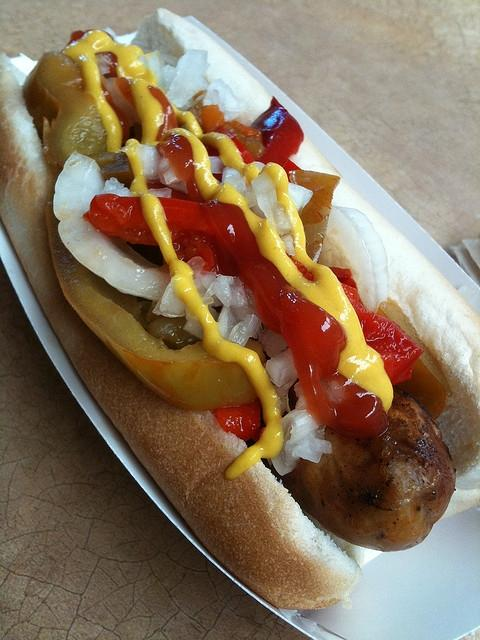onion: (53, 152, 171, 302), (318, 205, 390, 314), (270, 408, 332, 476), (166, 50, 210, 108), (203, 78, 247, 122), (251, 172, 277, 228), (265, 348, 298, 388), (228, 314, 261, 347), (160, 280, 186, 316), (138, 143, 161, 182), (220, 166, 246, 197), (262, 328, 288, 358), (272, 202, 293, 235), (218, 304, 237, 340), (214, 282, 238, 310), (100, 178, 132, 198), (230, 276, 248, 309), (231, 306, 255, 322), (147, 52, 160, 80), (243, 186, 258, 208), (208, 156, 226, 174), (159, 52, 179, 68)
